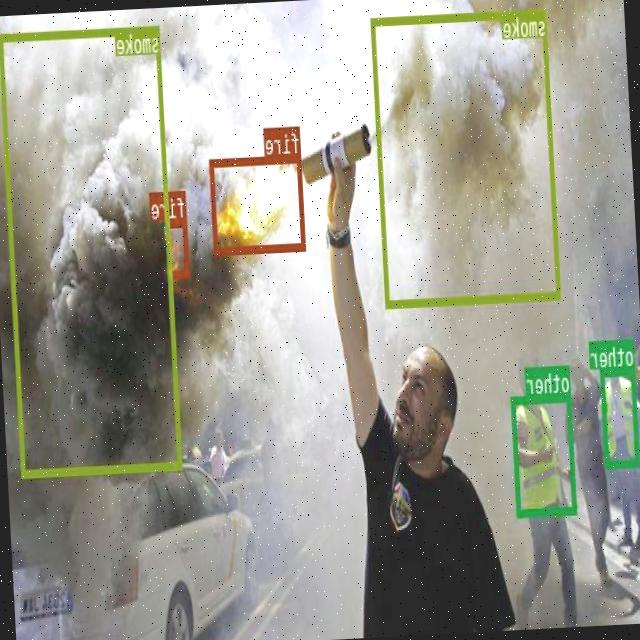fire: (210, 153, 307, 254), (167, 218, 190, 278)
smoke: (0, 26, 183, 477), (372, 8, 562, 308)
